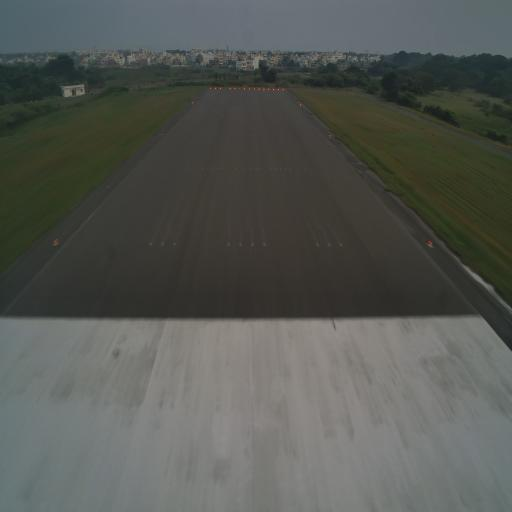off: (327, 240, 333, 252), (315, 237, 320, 250), (159, 239, 165, 249), (251, 238, 256, 250), (338, 238, 343, 250), (147, 240, 153, 249), (238, 240, 244, 249), (172, 237, 176, 247), (228, 238, 232, 248), (262, 238, 266, 248)
on: (52, 236, 60, 246), (426, 239, 434, 249)
